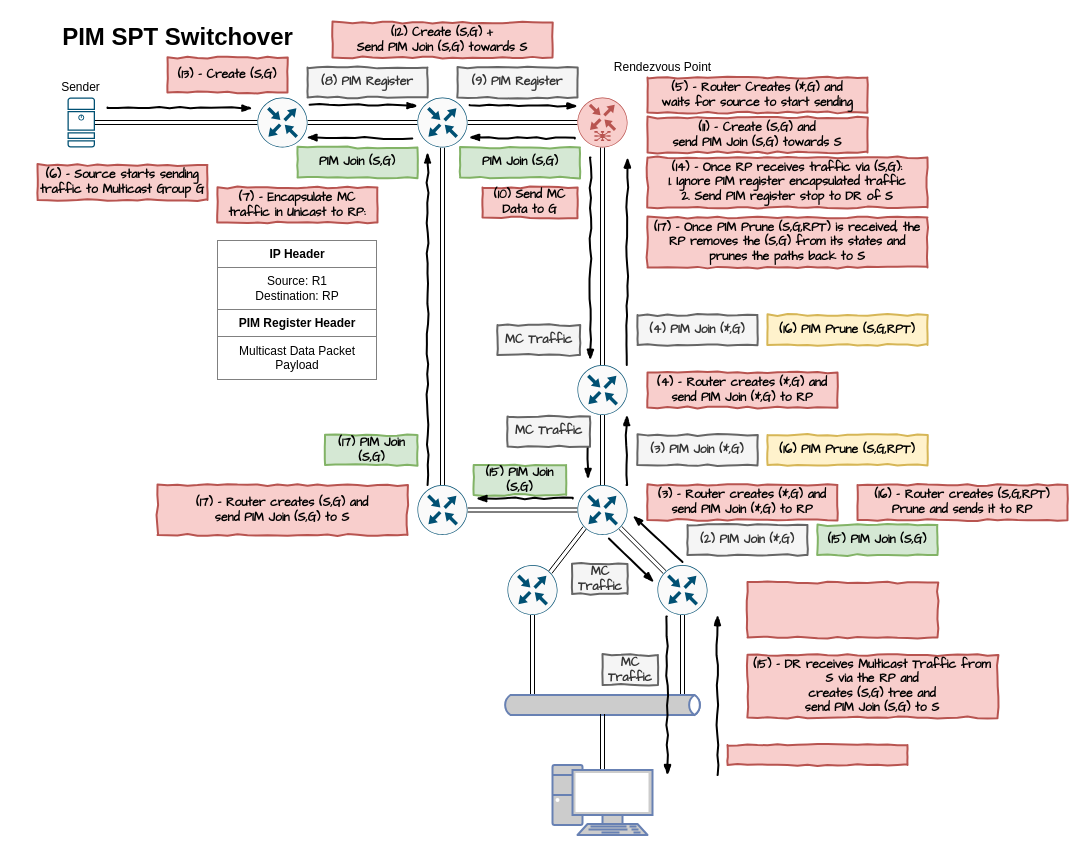
Image size: 1085x853. Some labels were removed from this diagram. The centre of each missing label's shape, as x and y in pixels:
(1) - IGMP Report G: point (817, 755)
(2) - Designated Router creates (*,G) and send PIM Join (*,G) to RP: point (842, 609)
Receiver: point (602, 800)
